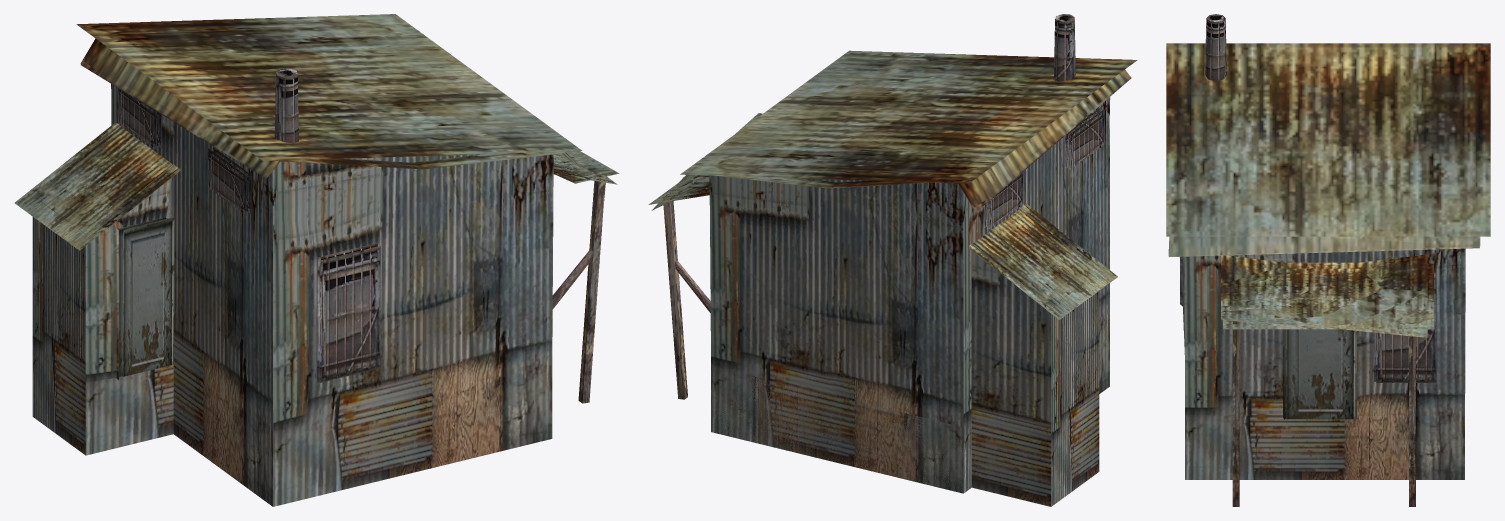
File: MogSlm01.glb
3 views of the same model, side by side, from view 1: azimuth 30°, elevation 25°; view 2: azimuth 150°, elevation 25°; view 3: azimuth 270°, elevation 25° (orthographic). The views are drawn at different scales.
Visible parts, largest first — view 1: 01 Mesh0.003, 01 Mesh0.001, 01 Mesh0, 01 Mesh0.002; view 2: 01 Mesh0.001, 01 Mesh0.003, 01 Mesh0, 01 Mesh0.002; view 3: 01 Mesh0.003, 01 Mesh0.001, 01 Mesh0, 01 Mesh0.002.
Part boxes in pixels (box(x1,y1,x2,y2)): 01 Mesh0.003: box(76, 14, 617, 506); 01 Mesh0.001: box(14, 38, 618, 433); 01 Mesh0: box(32, 57, 605, 506); 01 Mesh0.002: box(19, 39, 618, 455); 01 Mesh0.001: box(651, 14, 1131, 501); 01 Mesh0.003: box(648, 15, 1137, 493); 01 Mesh0: box(663, 14, 1131, 506); 01 Mesh0.002: box(657, 15, 1113, 487); 01 Mesh0.003: box(1166, 16, 1490, 382); 01 Mesh0.001: box(1168, 14, 1480, 506); 01 Mesh0: box(1169, 14, 1465, 479); 01 Mesh0.002: box(1171, 236, 1480, 501).
Bounding box in the file's own units: 6.72 × 5.65 × 4.65.
Materials: 4 (1 with a texture image).
